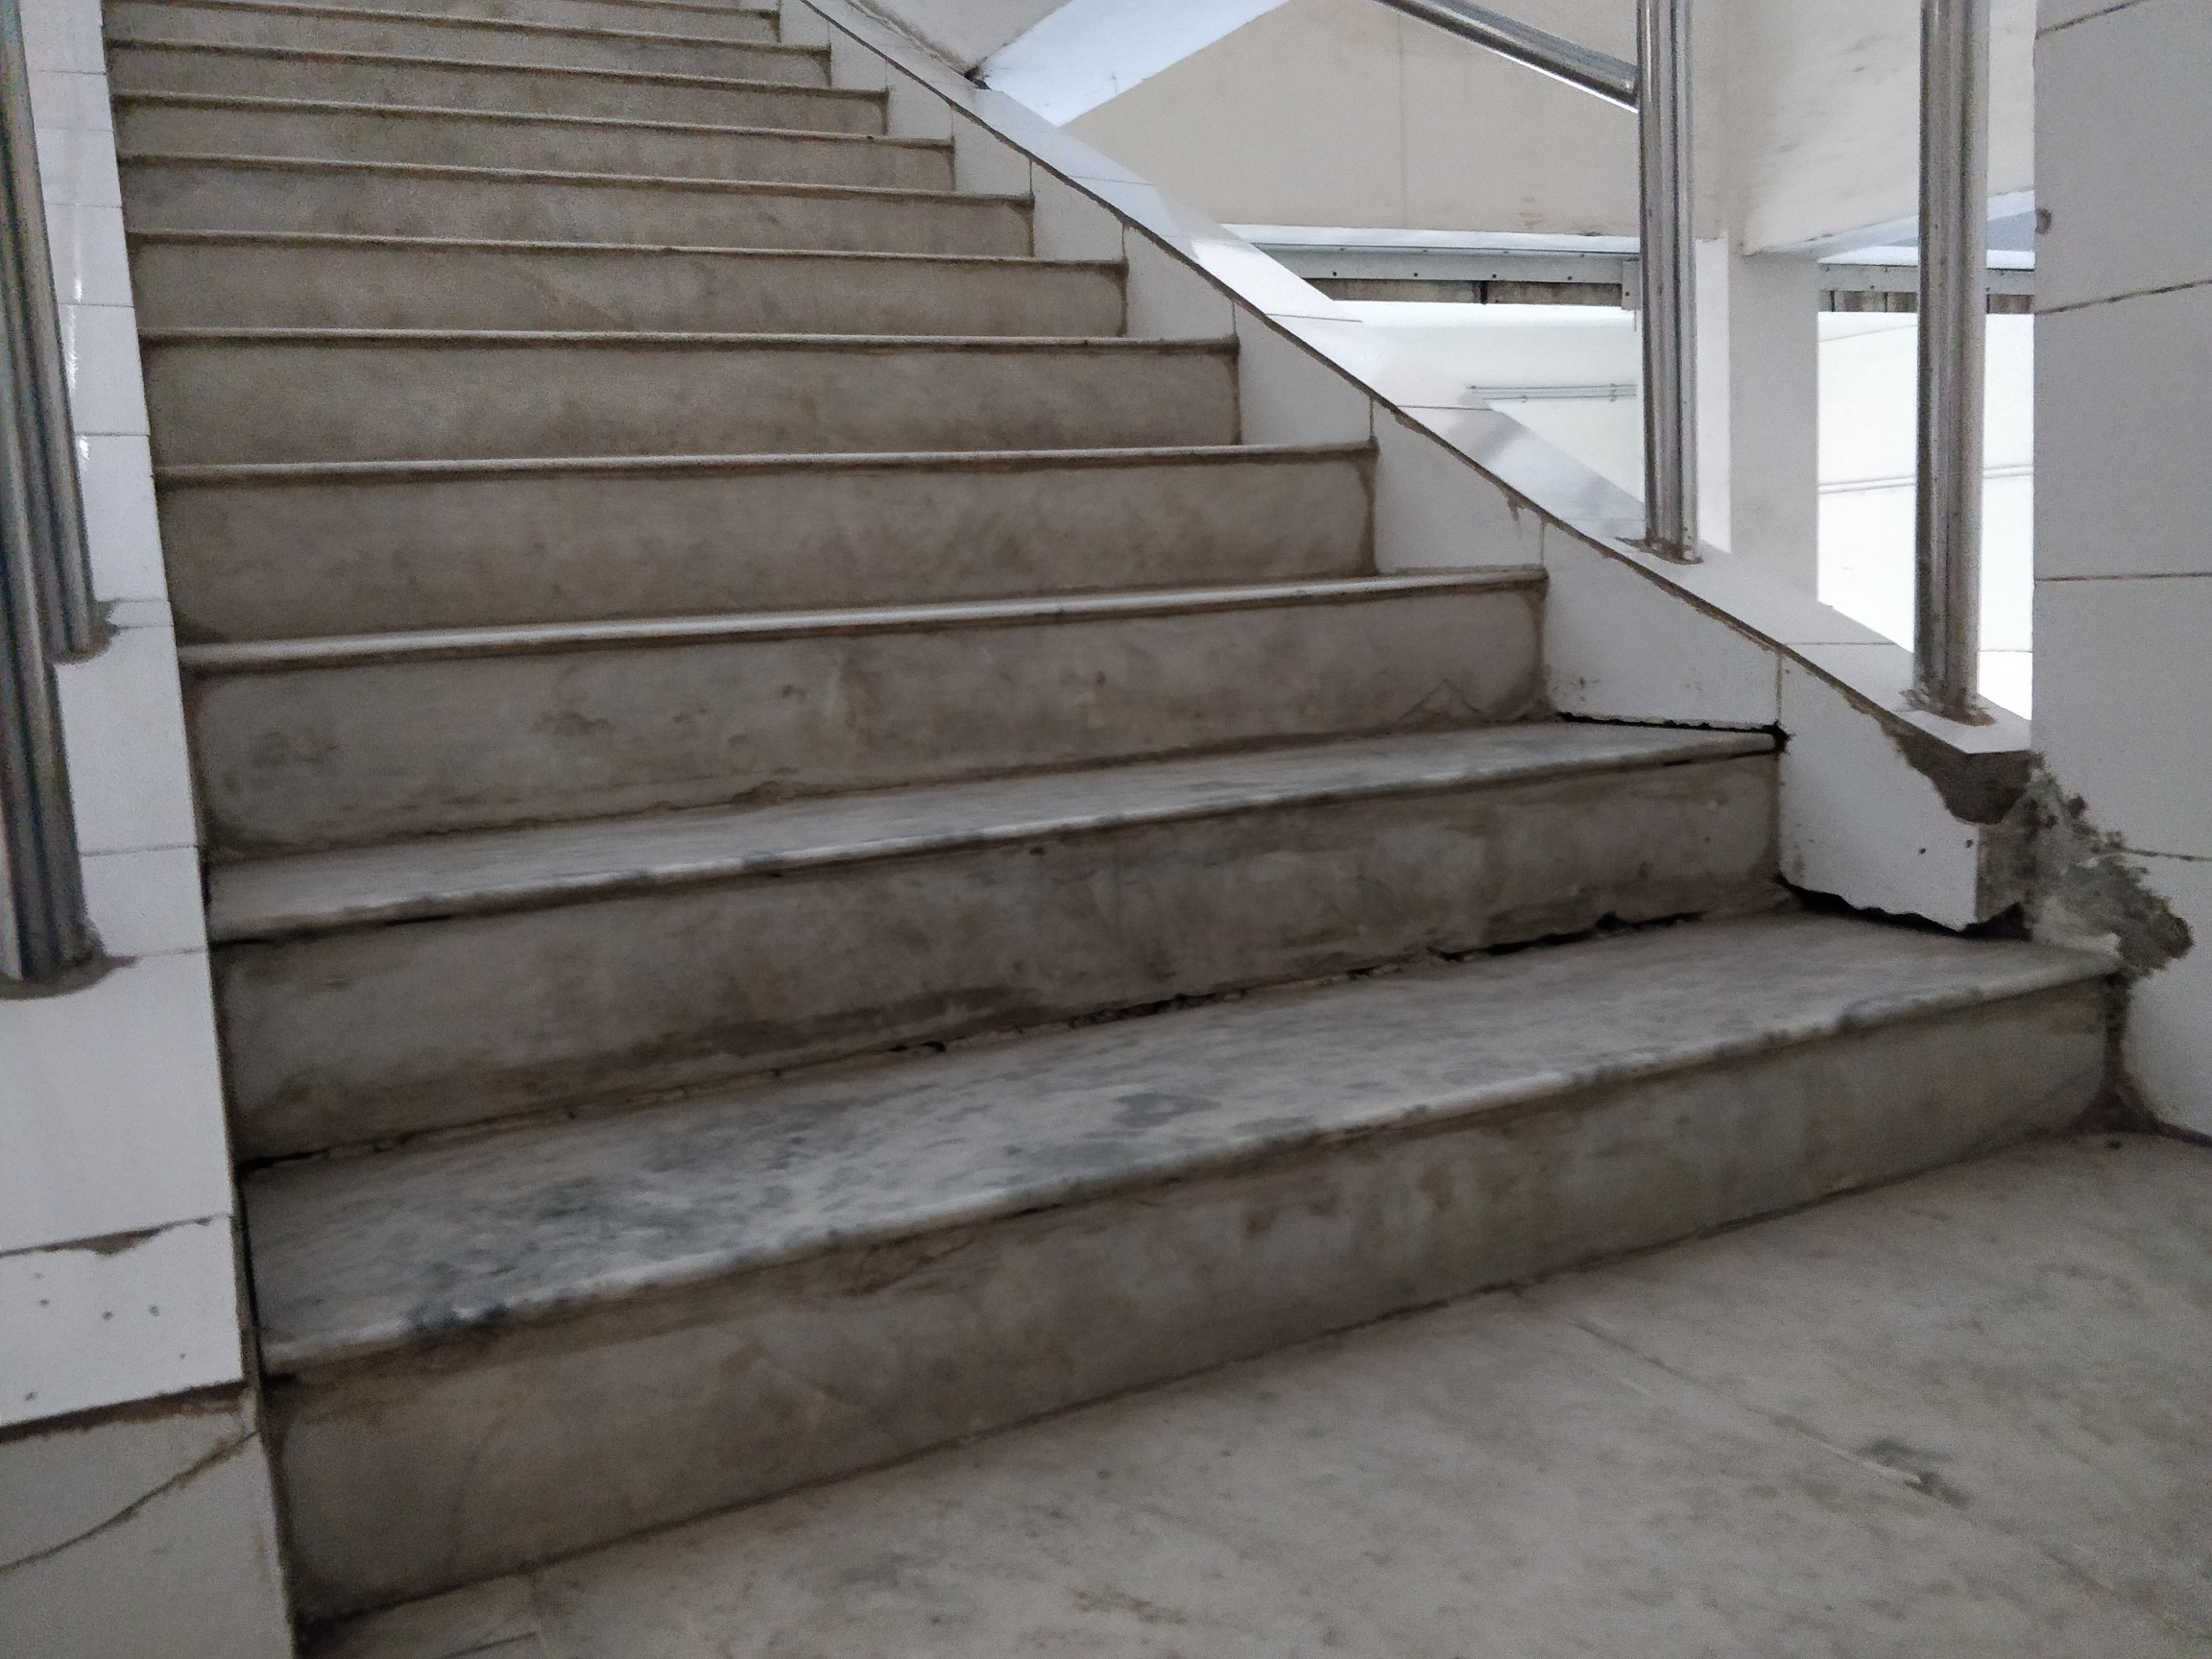stairs_up: (111, 54, 1850, 1434)
